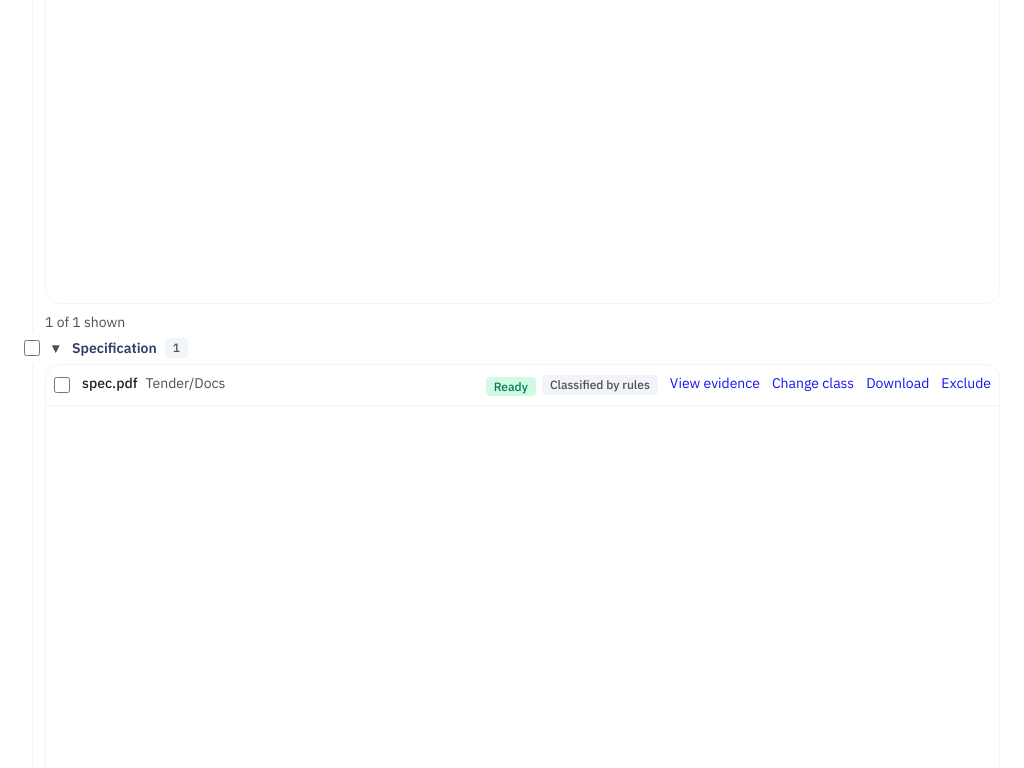
Test case: DocumentTree › bulk changes the selected files by id and lists per-file failures
(page scrolled)
Click the checkbox named "Select spec.pdf" at (62, 384), box [54,376,70,392]
(page scrolled)
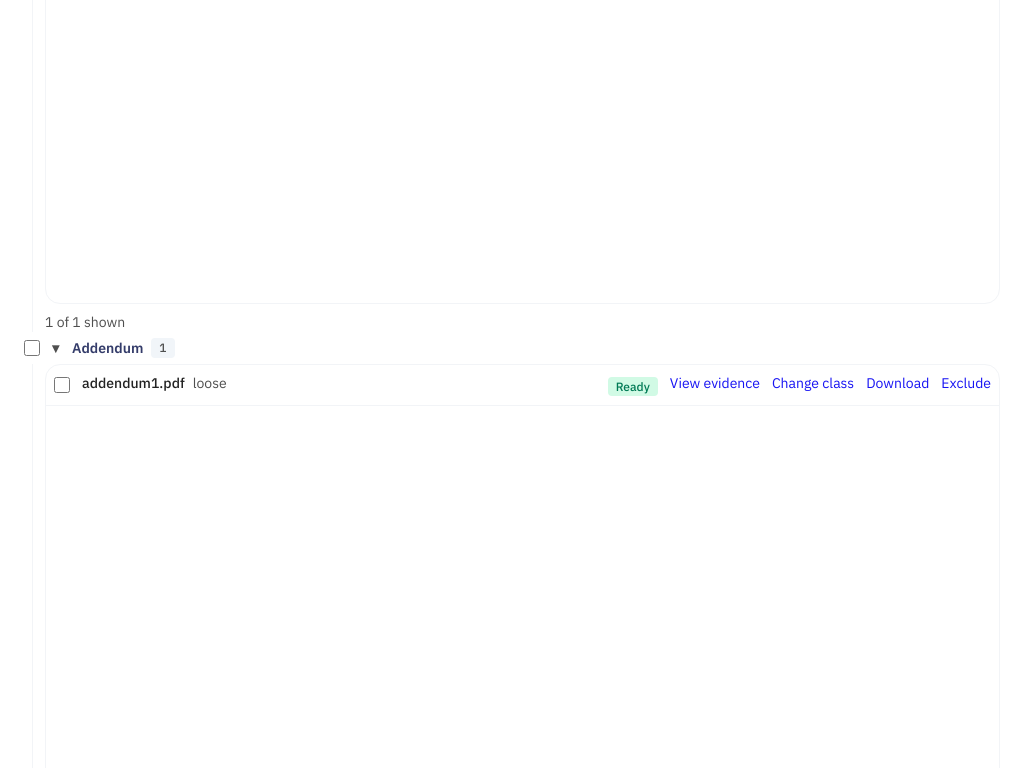
Click the checkbox named "Select addendum1.pdf" at (62, 384), box [54,376,70,392]
(page scrolled)
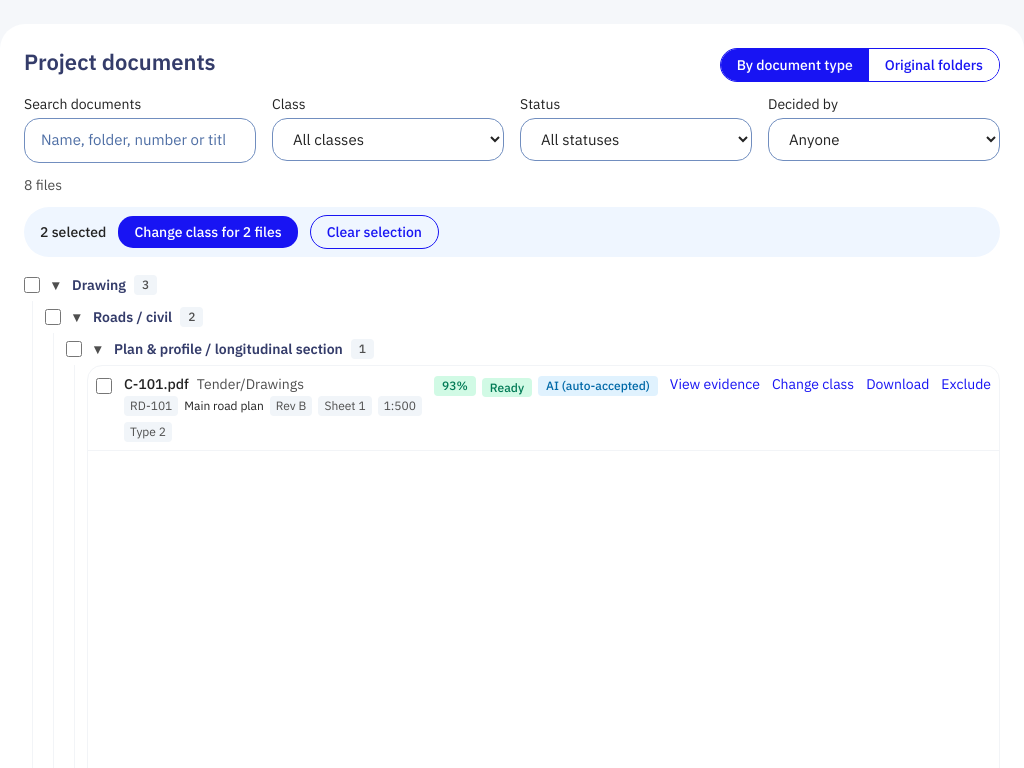
Click the button "Change class for 2 files" at (208, 232), box [118,216,298,248]
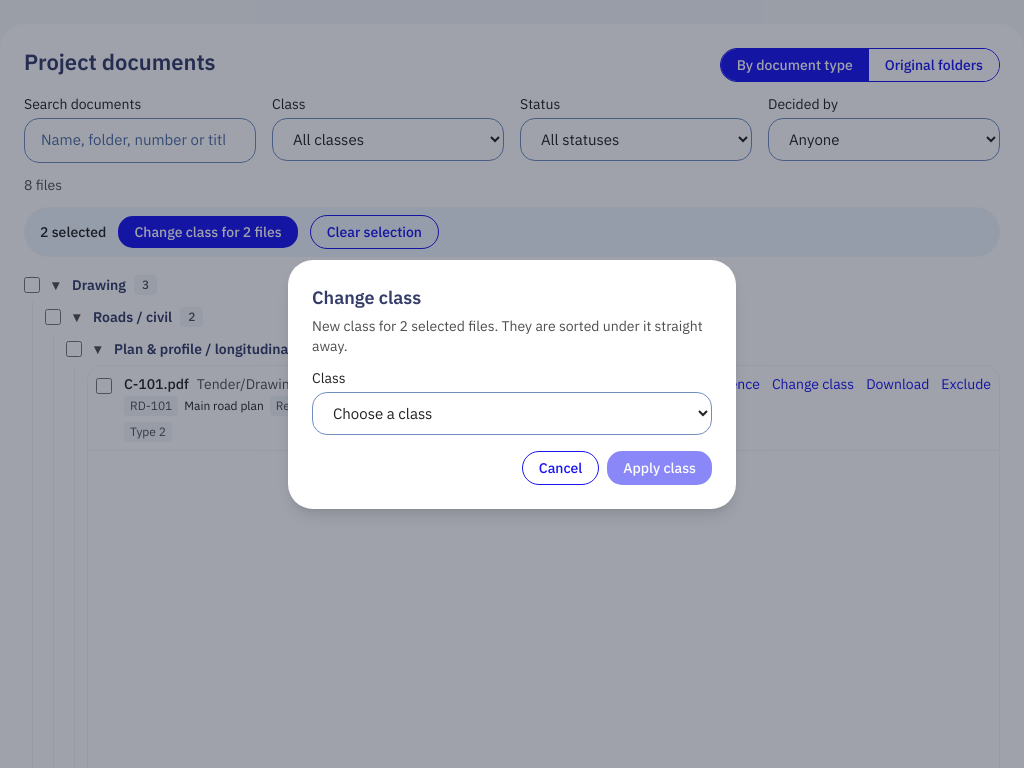
Select "Other" in the dropdown labelled "Class" at (512, 413), box [312,392,712,434]
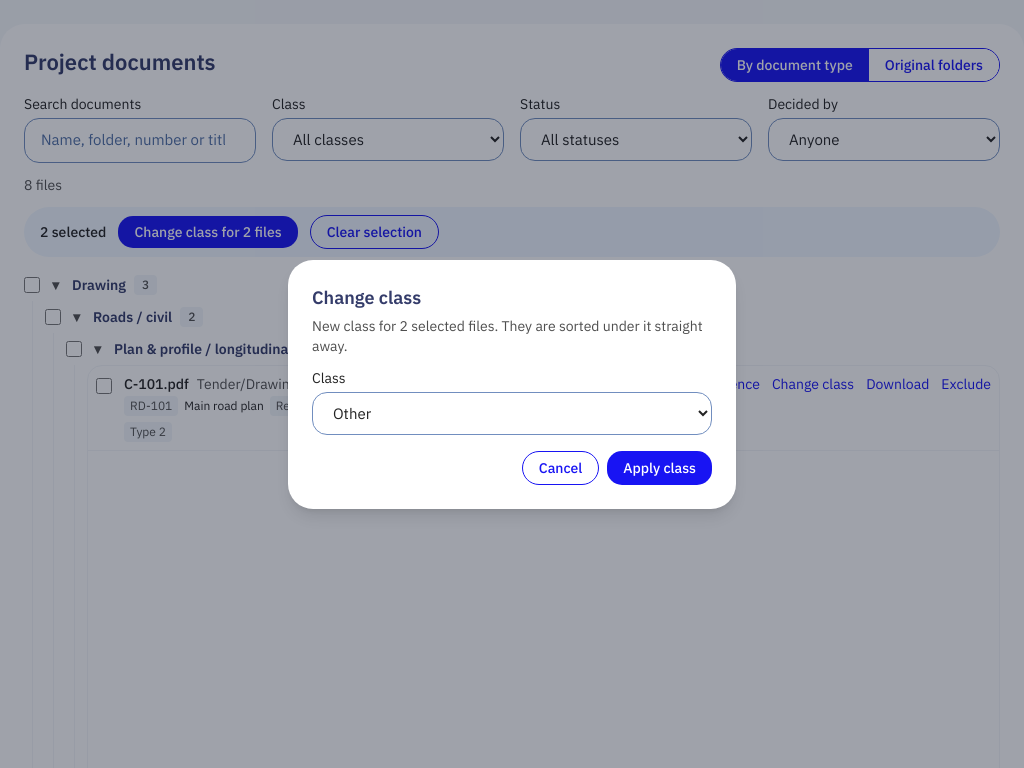
Click the button "Apply class" at (660, 468), box [607,450,712,484]
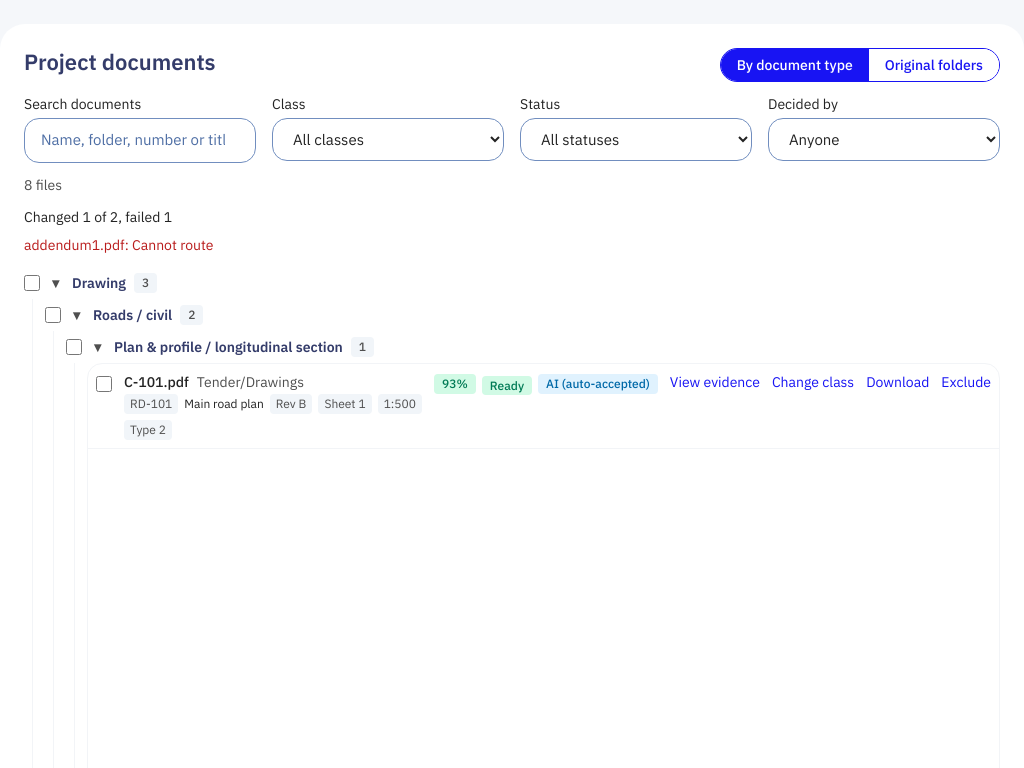
Expected: the message "addendum1.pdf: Cannot route" is shown, [24,236,214,254]
Expected: the text "Changed 1 of 2, failed 1" is shown, [24,208,172,226]
